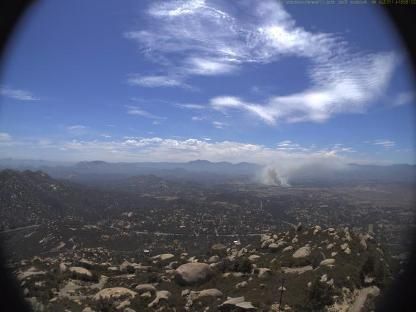smoke: (256, 150, 344, 190)
